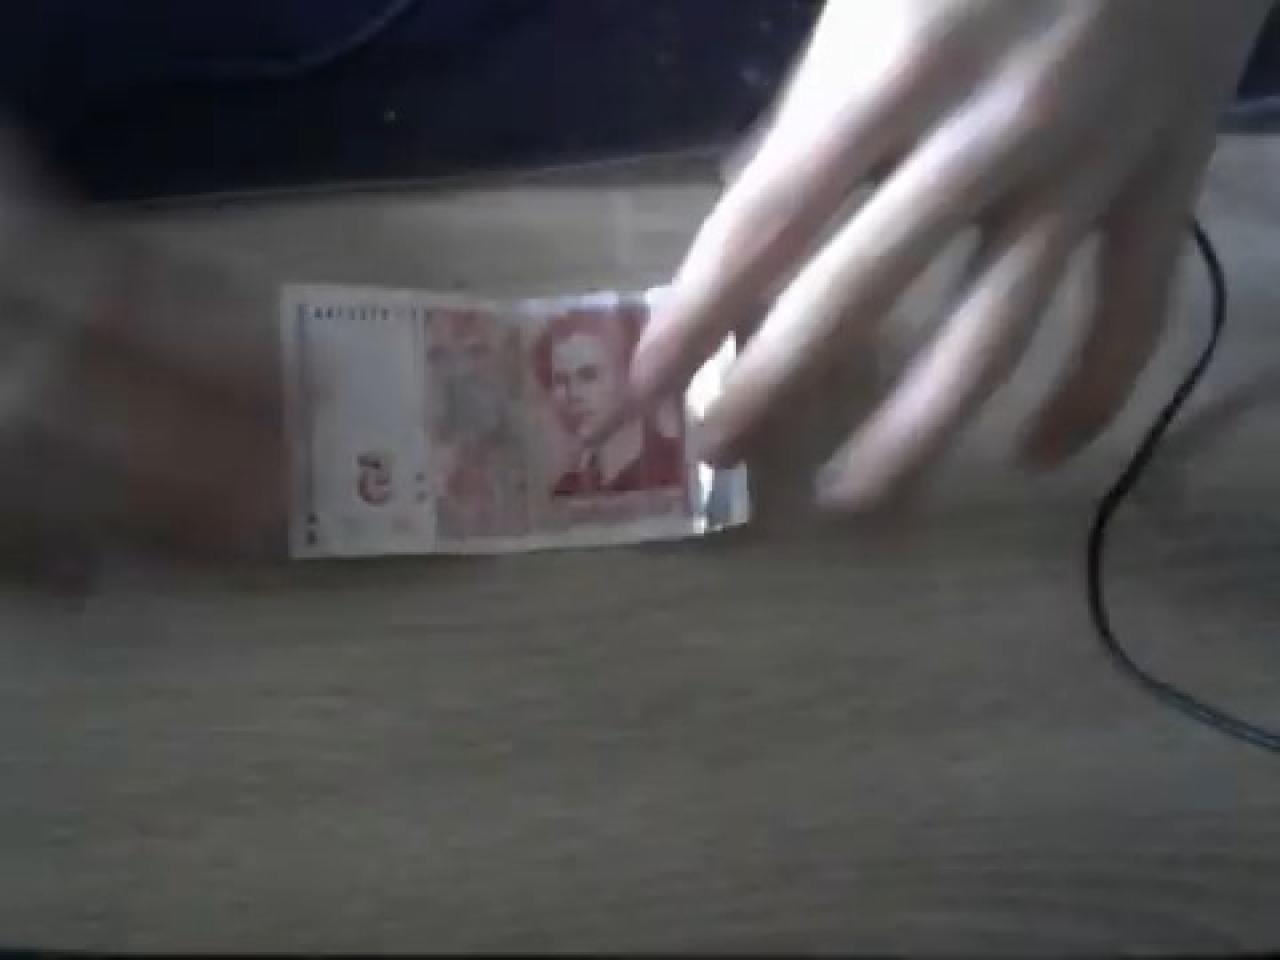5leva: (277, 282, 747, 560)
